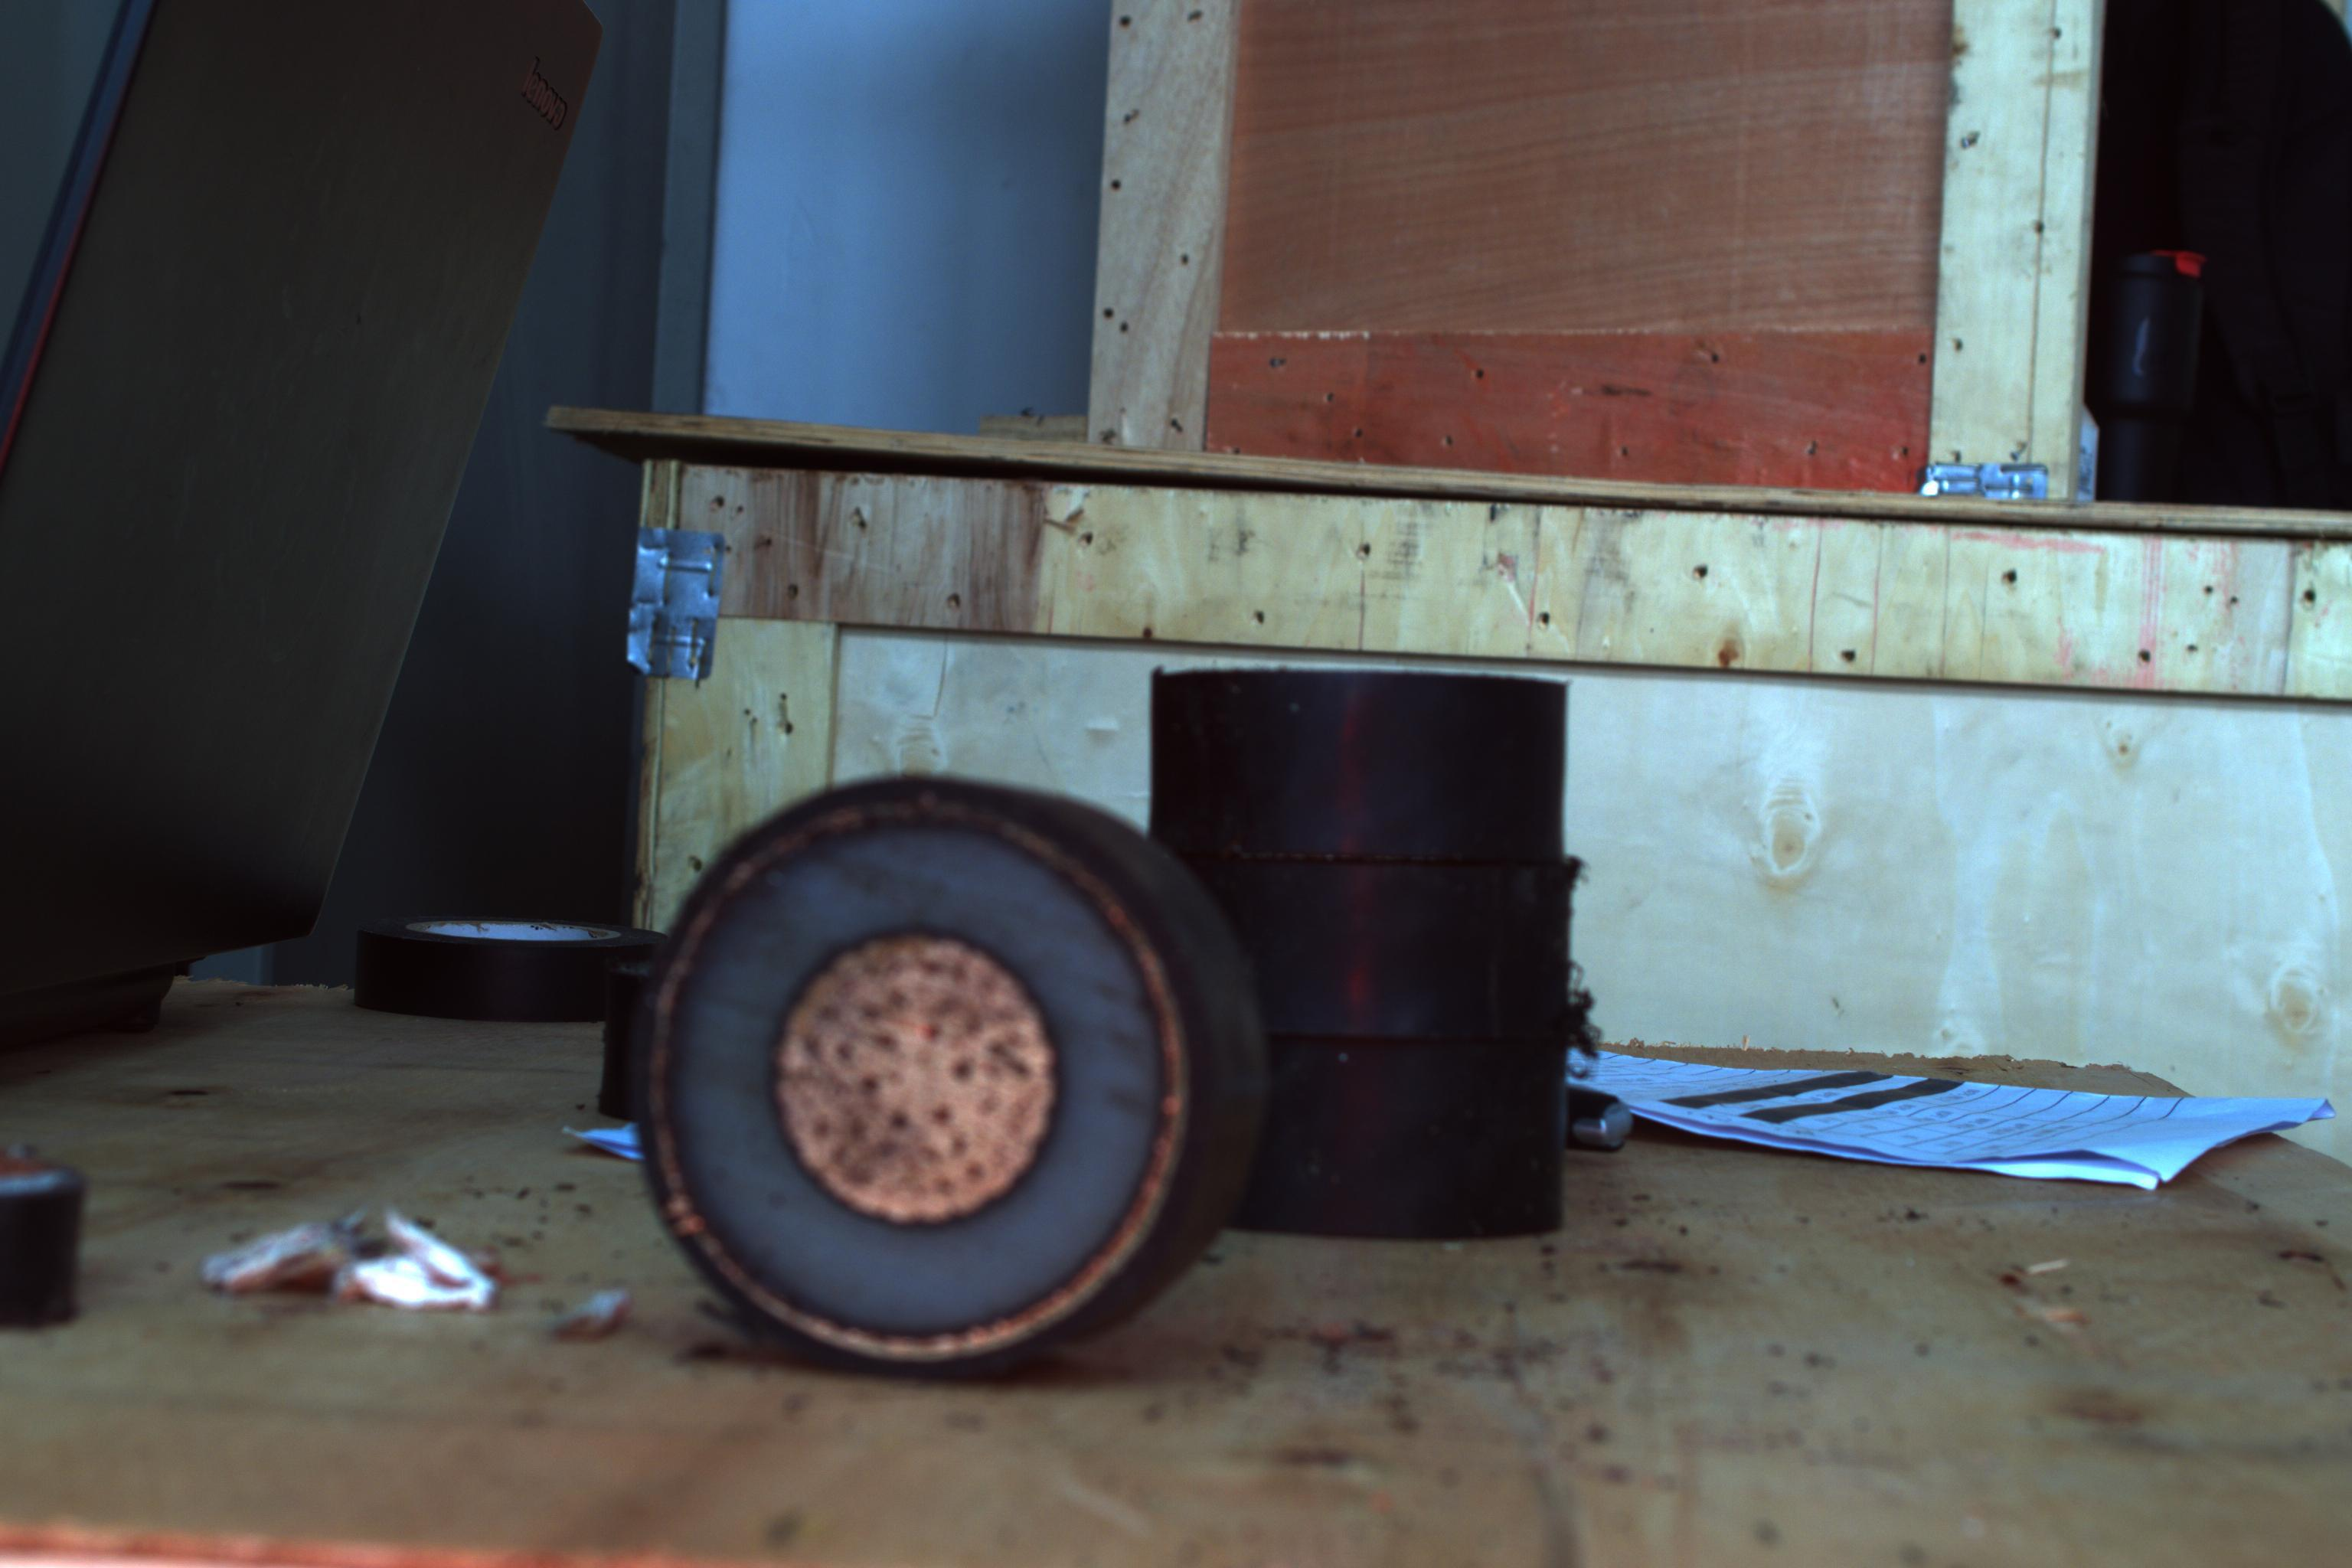YJV_26_35kV_1x630: (612, 796, 1183, 1365)
